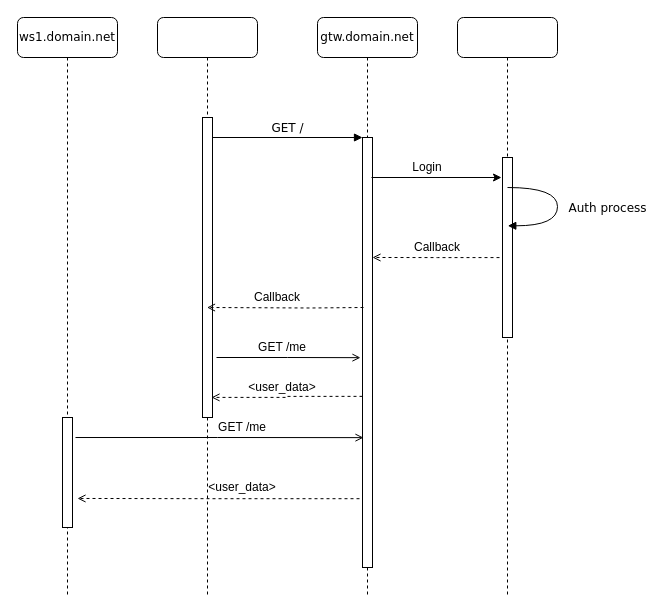
Image size: 664x615. Some labels were removed from this diagram. Here are the shapes that lost their labels. From the top down, the box of each, then its label:
(156, 16, 258, 598): ws2.domain.net
(456, 16, 558, 598): Discord
